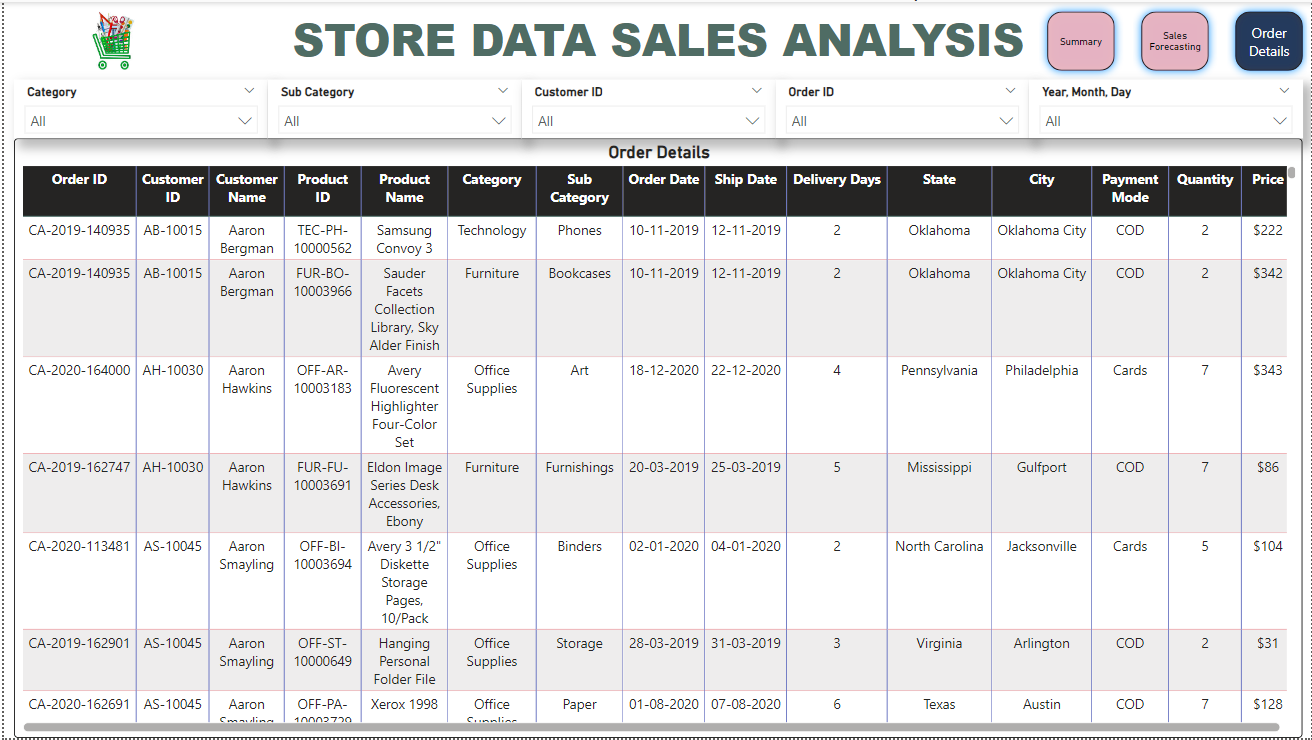

Layout of this report page (visuals, bound fields, positions):
{"tool":"powerbi","page":{"name":"Order Details","canvas":[1280,720],"ordinal":2},"visuals":[{"type":"tableEx","title":"Order Details","fields":{"Values":["SalesDataset.Order_ID","SalesDataset.Customer_ID","SalesDataset.Customer_Name","SalesDataset.Product_ID","SalesDataset.Product_Name","SalesDataset.Category","SalesDataset.Sub_Category","SalesDataset.Order_Date","SalesDataset.Ship_Date","Avg(SalesDataset.AvgDelivery)","SalesDataset.State","SalesDataset.City"]},"box":[9.8,133.2,1260.3,586.8],"z":0},{"type":"group","id":"g1","title":"Group 1","box":[0,0,1279.6,76],"z":1000},{"type":"slicer","fields":{"Values":["SalesDataset.Category"]},"box":[9.8,75.8,248.1,57.5],"z":2000},{"type":"slicer","fields":{"Values":["SalesDataset.Sub_Category"]},"box":[257.9,75.8,248.1,57.5],"z":3000},{"type":"slicer","fields":{"Values":["SalesDataset.Customer_ID"]},"box":[506.1,75.8,248.1,57.5],"z":4000},{"type":"slicer","fields":{"Values":["SalesDataset.Order_ID"]},"box":[754.2,75.8,248.1,57.5],"z":5000},{"type":"slicer","title":"Date","fields":{"Values":["SalesDataset.Order_Date.Variation.Date Hierarchy.Year","SalesDataset.Order_Date.Variation.Date Hierarchy.Month","SalesDataset.Order_Date.Variation.Date Hierarchy.Day"]},"box":[1002.4,75.8,267.7,57.5],"z":6000},{"type":"textbox","box":[0,1.2,1279.6,74.8],"z":14500,"group":"g1"},{"type":"image","box":[0,0,213.5,76],"z":16000,"group":"g1"},{"type":"pageNavigator","box":[1011.9,1.2,267.7,74.8],"z":16500,"group":"g1"}]}

Visuals, with their boxes in screenshot pixels (x1, y1, x2, y2), scaled from the page's 1280x720 canvas onto the 1312x740 screenshot:
"Order Details" tableEx: 10,137,1302,739
"Group 1" group: 0,0,1311,78
slicer - SalesDataset.Category: 10,78,264,137
slicer - SalesDataset.Sub_Category: 264,78,519,137
slicer - SalesDataset.Customer_ID: 519,78,773,137
slicer - SalesDataset.Order_ID: 773,78,1027,137
"Date" slicer: 1027,78,1302,137
textbox: 0,1,1311,78
image: 0,0,219,78
pageNavigator: 1037,1,1311,78
